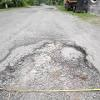Pothole: (0, 36, 100, 100)
